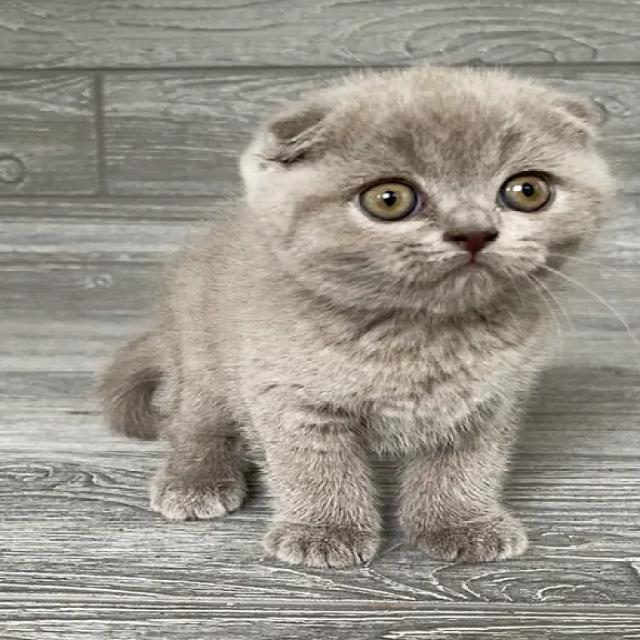Scottish Fold: (91, 59, 618, 576)
